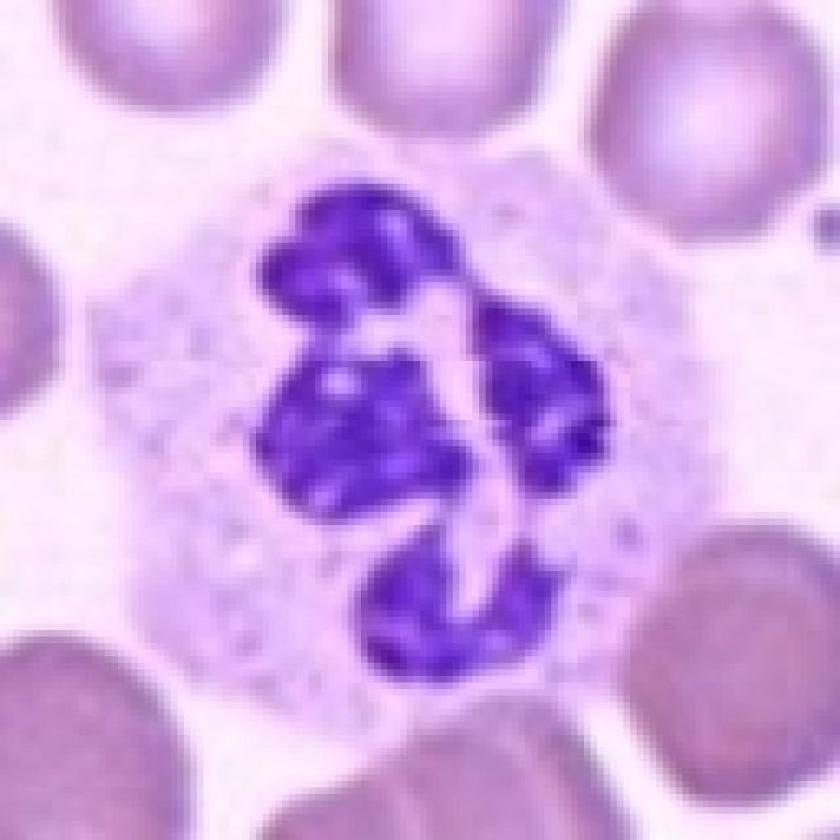neutrophil: (143, 181, 736, 643)
